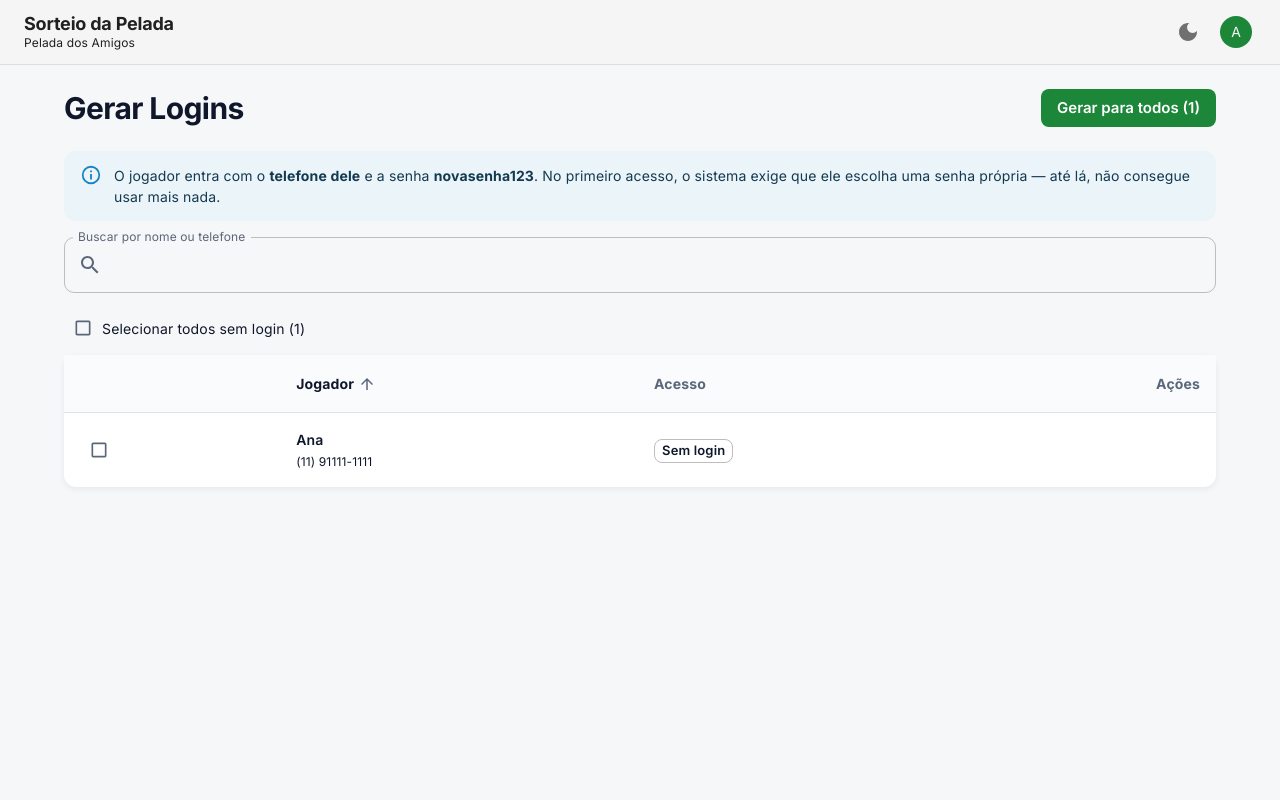
Test: gerar logins › avisa quantos ficaram de fora
Expected: the text "Ana" is shown, [296,431,323,448]
Click the button "Gerar para todos (1)": click(1128, 108) [1041,89,1216,127]
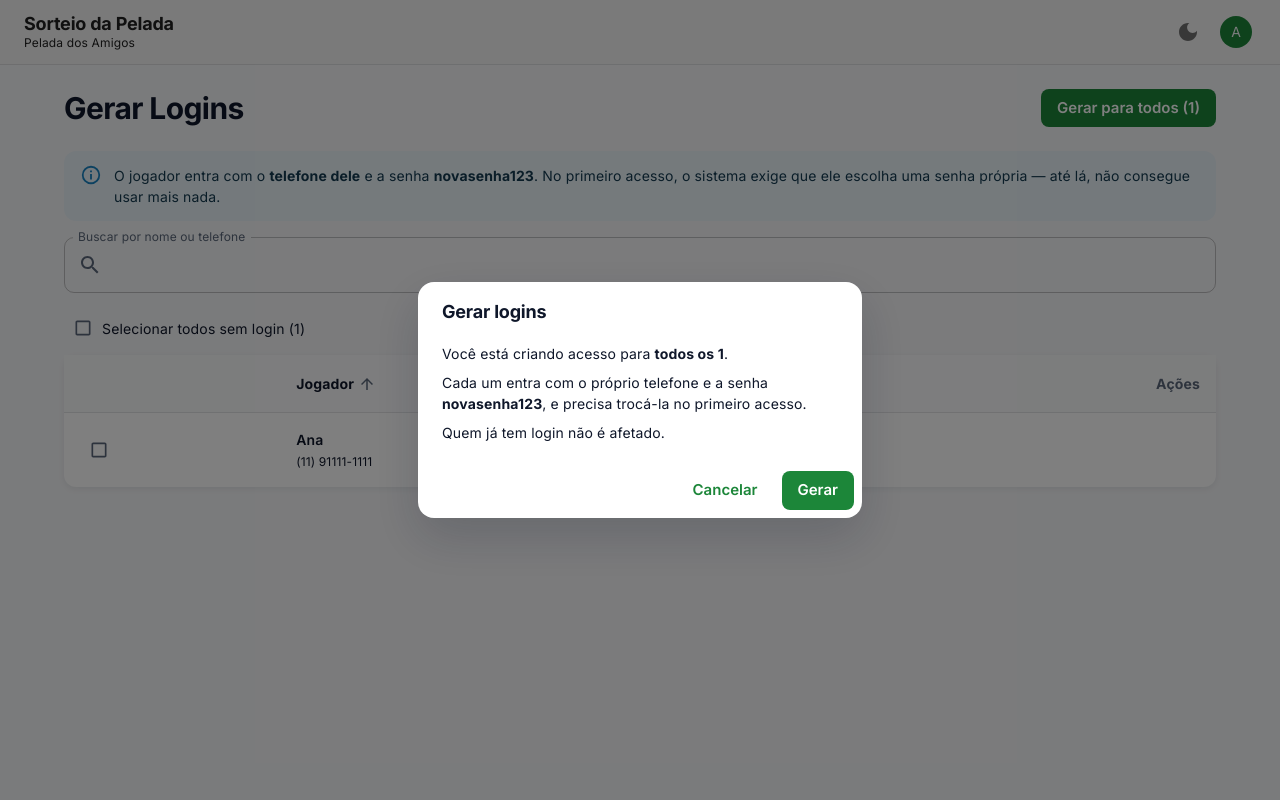
Click the button "Gerar": click(818, 490) [782,471,854,510]
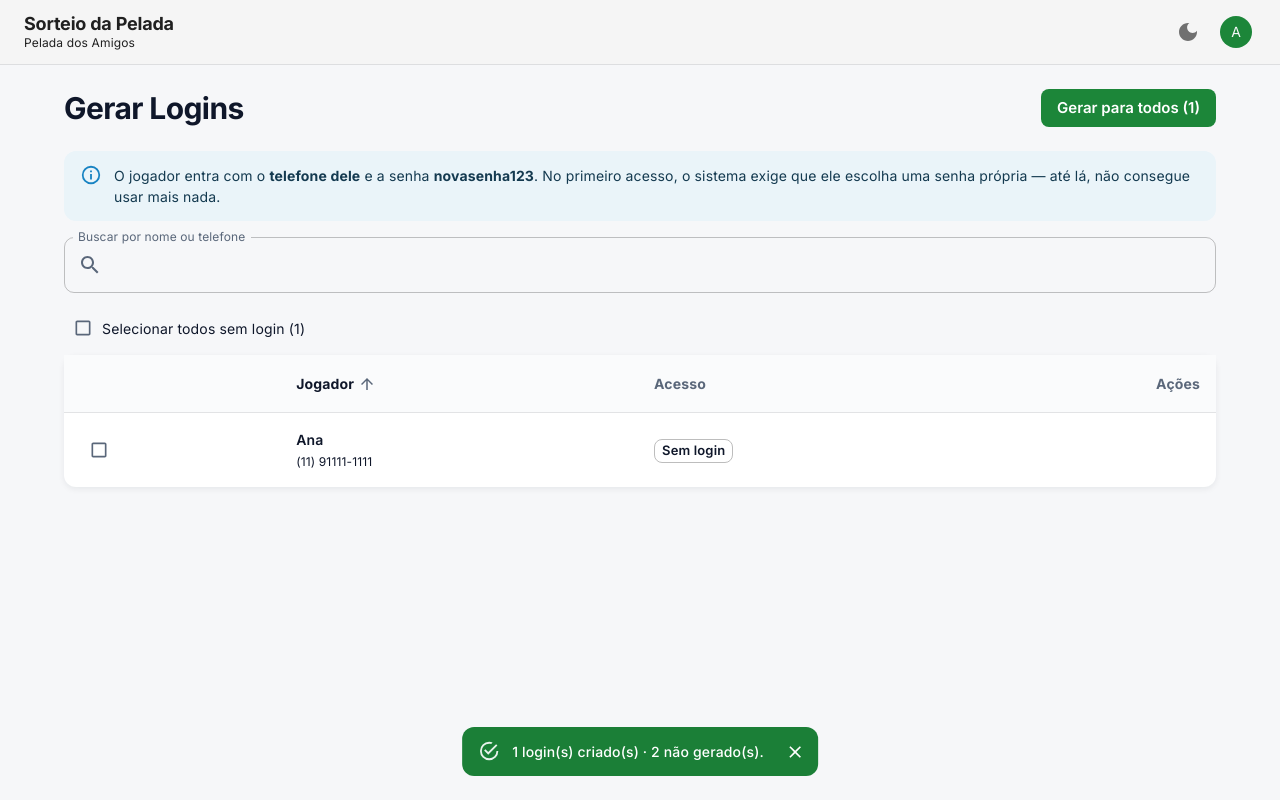
Result: the text "1 login(s) criado(s) · 2 não gerado(s)." is shown at [512,743,764,760]
